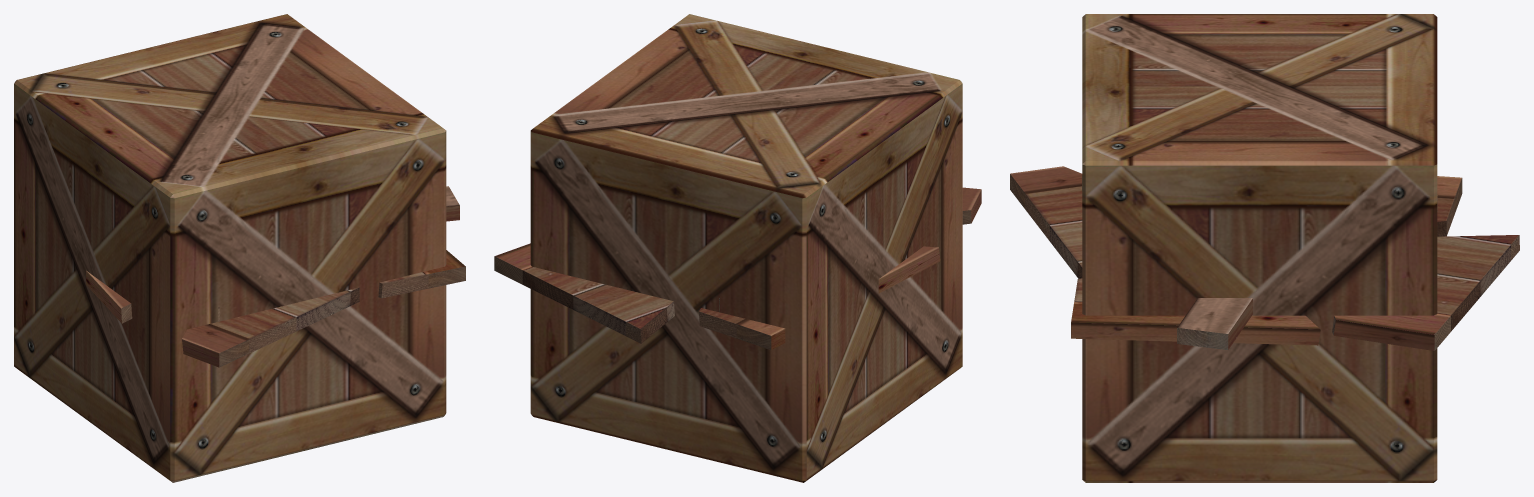
The picture shows the model from 3 angles, left to right: view 1: azimuth 30°, elevation 25°; view 2: azimuth 150°, elevation 25°; view 3: azimuth 270°, elevation 25°; orthographic projection. The views are drawn at different scales.
Parts seen in each view (by area): view 1: box, box_itaA_02, box_itaA_01, box_itaA_03; view 2: box, box_itaA_04, box_itaA_03, box_itaA_02; view 3: box, box_itaA_04, box_itaA_01, box_itaA_02, box_itaC_02, box_itaA_03.
Boxes of the visible parts, bbox=[...] form: box: bbox=[14, 14, 446, 482]; box_itaA_02: bbox=[182, 287, 359, 367]; box_itaA_01: bbox=[378, 250, 465, 298]; box_itaA_03: bbox=[86, 270, 132, 323]; box: bbox=[530, 14, 962, 482]; box_itaA_04: bbox=[494, 243, 674, 343]; box_itaA_03: bbox=[699, 246, 940, 350]; box_itaA_02: bbox=[962, 187, 981, 224]; box: bbox=[1082, 14, 1437, 482]; box_itaA_04: bbox=[1332, 235, 1519, 350]; box_itaA_01: bbox=[1071, 278, 1320, 345]; box_itaA_02: bbox=[1010, 166, 1082, 278]; box_itaC_02: bbox=[1177, 298, 1252, 349]; box_itaA_03: bbox=[1437, 176, 1462, 236].
Bounding box in the file's own units: 258 × 200 × 287.
